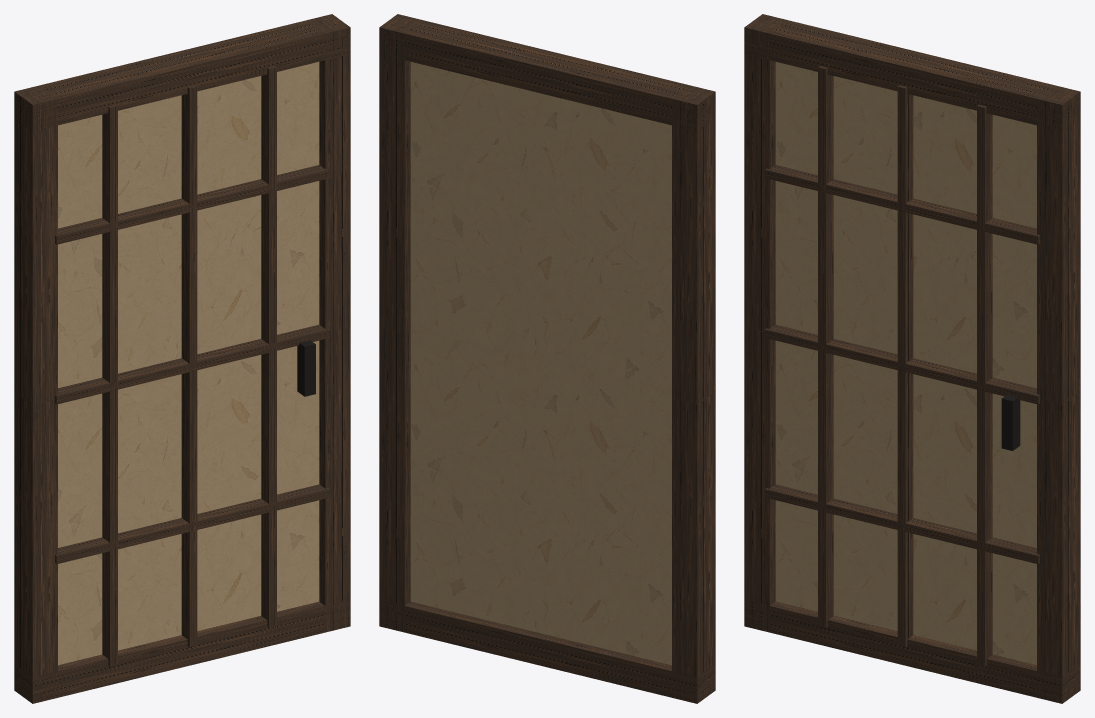
The model's file is paper_sliding_door.glb.
3 views of the same model, side by side, from view 1: azimuth 30°, elevation 25°; view 2: azimuth 150°, elevation 25°; view 3: azimuth 330°, elevation 25° (orthographic).
Visible parts, largest first — view 1: CandidateMesh; view 2: CandidateMesh; view 3: CandidateMesh.
Part boxes in pixels (<box>): CandidateMesh: <box>14,14,350,703</box>; CandidateMesh: <box>379,14,715,703</box>; CandidateMesh: <box>744,14,1080,703</box>.
Size of the model in its own units: 1 by 1.8 by 0.14.
Materials: 3 (2 with a texture image).
